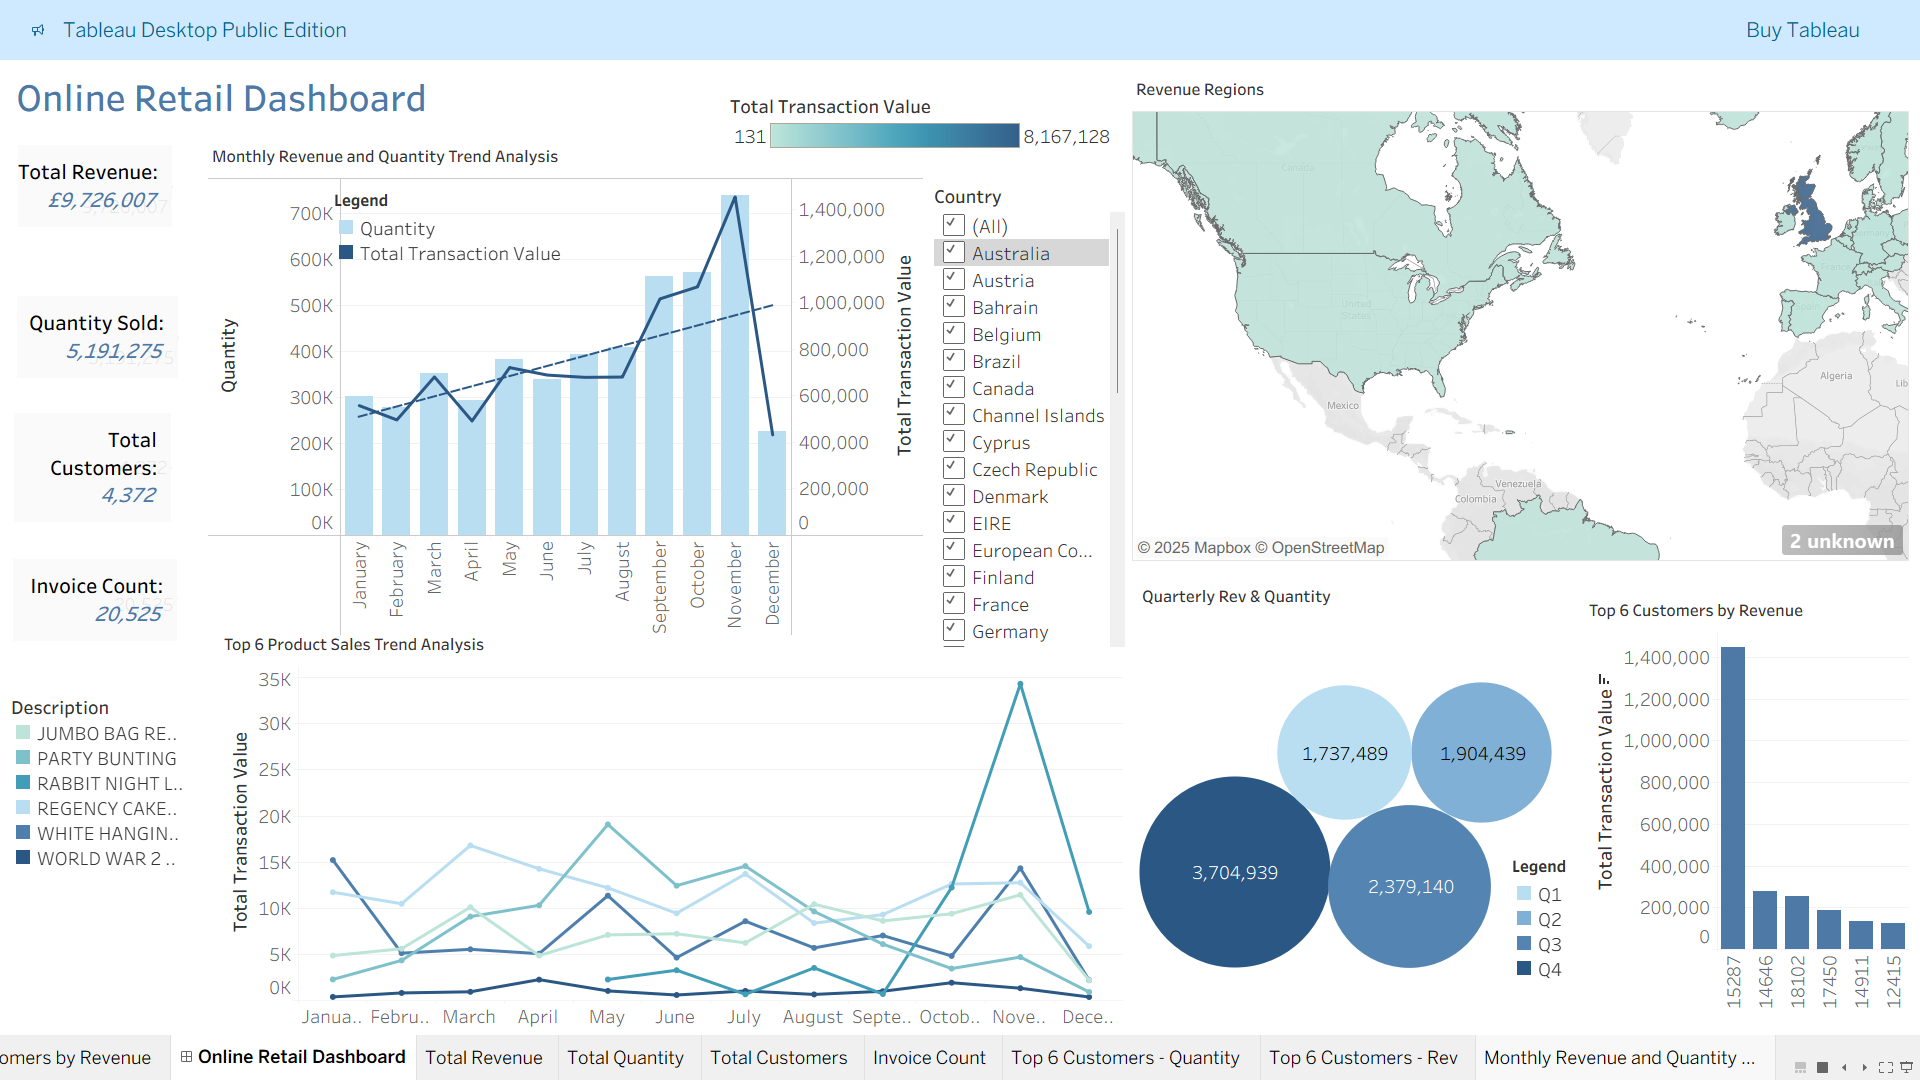

Layout of this report page (visuals, bound fields, positions):
{"tool":"tableau","page":{"name":"Online Retail Dashboard","canvas":[1000,1000],"units":"permille","ordinal":0},"visuals":[{"type":"title","box":[5,10.7,990,77.7]},{"type":"worksheet","title":"Revenue Regions","mark":"Automatic","box":[589.8,14.8,404.6,516.1]},{"type":"legend","title":"Revenue Regions","param":"[federated.1ljgoix0deh2p11gjaojv0v66wmp].[sum:Total_Transaction_Value:qk]","box":[380.3,33.5,200.8,87.1]},{"type":"worksheet","title":"Total Revenue","mark":"Automatic","box":[9.3,73.7,100.4,214.5]},{"type":"worksheet","title":"Monthly Revenue and Quantity Trend Analysis","mark":"Automatic","rows":["Quantity","Total_Transaction_Value"],"cols":["InvoiceDate"],"box":[121,83.1,360.4,508]},{"type":"legend","title":"Monthly Revenue and Quantity Trend Analysis","param":"[federated.1ljgoix0deh2p11gjaojv0v66wmp].[:Measure Names]","box":[200.8,111.3,154.6,105.9]},{"type":"filter","title":"Revenue Regions","param":"[federated.1ljgoix0deh2p11gjaojv0v66wmp].[none:Country:nk]","box":[486.3,126,99.8,475.9]},{"type":"worksheet","title":"Total Quantity","mark":"Automatic","box":[4.4,189,105.4,178.3]},{"type":"worksheet","title":"AVG Transaction Value","mark":"Automatic","box":[6.9,277.5,97.3,201.1]},{"type":"worksheet","title":"Total Customers","mark":"Automatic","box":[7.5,450.4,101,146.1]},{"type":"worksheet","title":"Quarterly Rev & Quantity","mark":"Circle","box":[592.9,534.9,387.8,462.5]},{"type":"worksheet","title":"Top 6 Customers by Revenue","mark":"Bar","rows":["Total_Transaction_Value"],"cols":["CustomerID"],"box":[825.4,548.3,169,445]},{"type":"worksheet","title":"Top 6 Product Sales Trend Analysis","mark":"Line","rows":["Total_Transaction_Value"],"cols":["InvoiceDate"],"box":[114.7,583.1,470.1,410.2]},{"type":"worksheet","title":"Invoice Count","mark":"Automatic","box":[6.2,587.1,103.5,124.7]},{"type":"legend","title":"Top 6 Product Sales Trend Analysis","param":"[federated.1ljgoix0deh2p11gjaojv0v66wmp].[none:Description:nk]","box":[5.6,726.5,92.3,258.7]},{"type":"legend","title":"Quarterly Rev & Quantity","param":"[federated.1ljgoix0deh2p11gjaojv0v66wmp].[qr:InvoiceDate:ok]","box":[787.4,815,87.3,168.9]}]}

Visuals, with their boxes on the dashboard's canvas, which has no fixed pixel size, in thousandths of its width and height (x1, y1, x2, y2). These are canvas units, not pixel positions in the 1920x1080 screenshot, which may show the page scaled, cropped or inside an application window:
title: pyautogui.locateOnScreen(5, 11, 995, 88)
"Revenue Regions" worksheet: pyautogui.locateOnScreen(590, 15, 994, 531)
"Revenue Regions" legend: pyautogui.locateOnScreen(380, 34, 581, 121)
"Total Revenue" worksheet: pyautogui.locateOnScreen(9, 74, 110, 288)
"Monthly Revenue and Quantity Trend Analysis" worksheet: pyautogui.locateOnScreen(121, 83, 481, 591)
"Monthly Revenue and Quantity Trend Analysis" legend: pyautogui.locateOnScreen(201, 111, 355, 217)
"Revenue Regions" filter: pyautogui.locateOnScreen(486, 126, 586, 602)
"Total Quantity" worksheet: pyautogui.locateOnScreen(4, 189, 110, 367)
"AVG Transaction Value" worksheet: pyautogui.locateOnScreen(7, 278, 104, 479)
"Total Customers" worksheet: pyautogui.locateOnScreen(8, 450, 108, 596)
"Quarterly Rev & Quantity" worksheet (Circle marks): pyautogui.locateOnScreen(593, 535, 981, 997)
"Top 6 Customers by Revenue" worksheet (Bar marks): pyautogui.locateOnScreen(825, 548, 994, 993)
"Top 6 Product Sales Trend Analysis" worksheet (Line marks): pyautogui.locateOnScreen(115, 583, 585, 993)
"Invoice Count" worksheet: pyautogui.locateOnScreen(6, 587, 110, 712)
"Top 6 Product Sales Trend Analysis" legend: pyautogui.locateOnScreen(6, 726, 98, 985)
"Quarterly Rev & Quantity" legend: pyautogui.locateOnScreen(787, 815, 875, 984)
